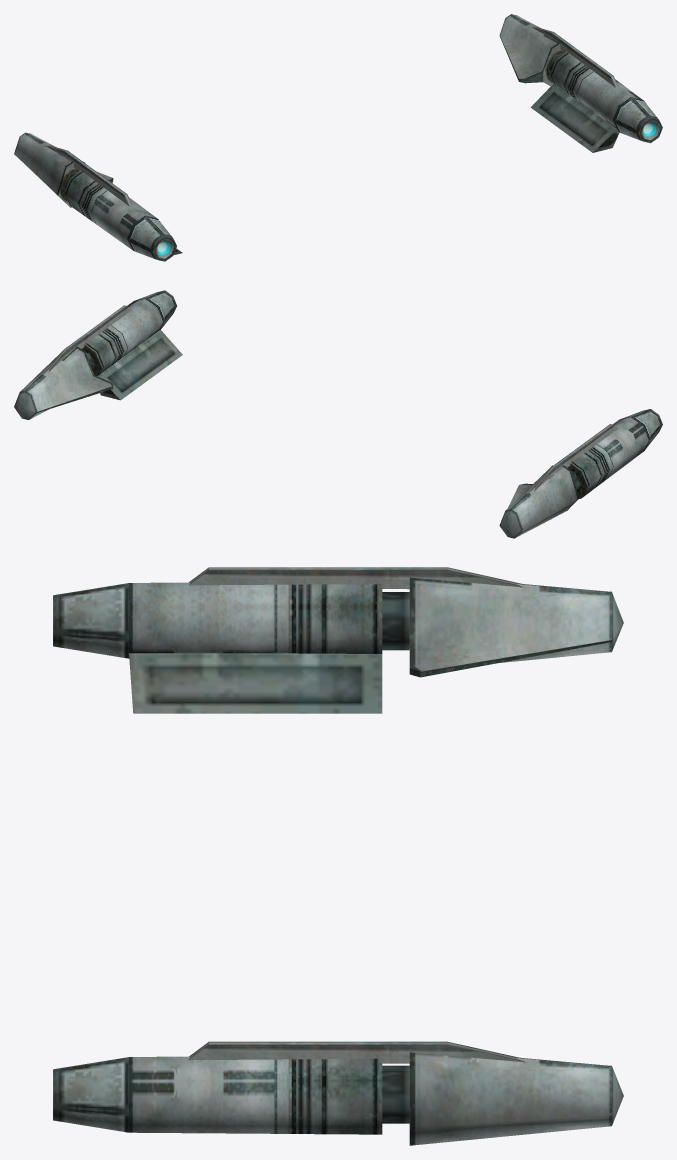
File: black_sun_fighter_heavy_weapon1_s02_l0.fbx
The picture shows the model from 3 angles, top to bottom: view 1: azimuth 30°, elevation 25°; view 2: azimuth 150°, elevation 25°; view 3: azimuth 270°, elevation 25°; orthographic projection. The views are drawn at different scales.
Visible parts, largest first — view 1: mesh_node; view 2: mesh_node; view 3: mesh_node.
Part boxes in pixels (box(x1,y1,x2,y2)): mesh_node: box(14, 14, 662, 261); mesh_node: box(14, 290, 662, 538); mesh_node: box(53, 567, 623, 1145).
Size of the model in its own units: 3.26 by 0.3196 by 1.54.
1 material, 1 textured.
